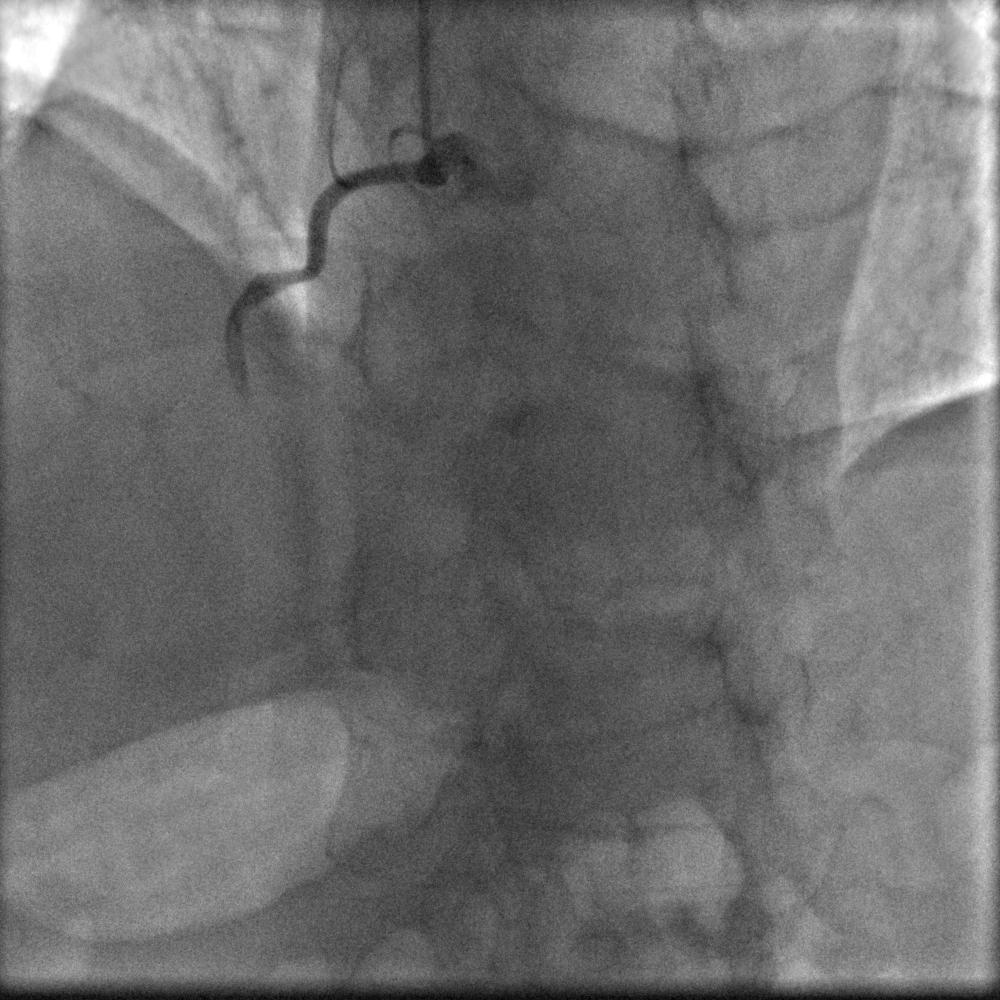Stenosis: (222, 287, 253, 322)
